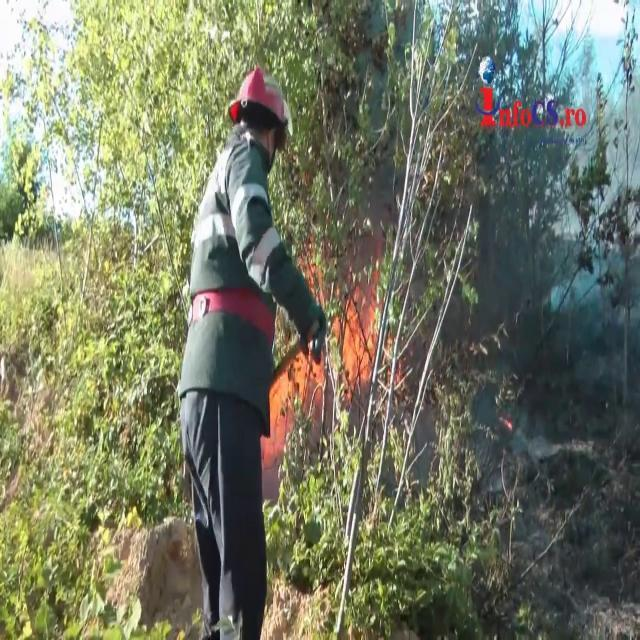Fire: (338, 248, 384, 394)
